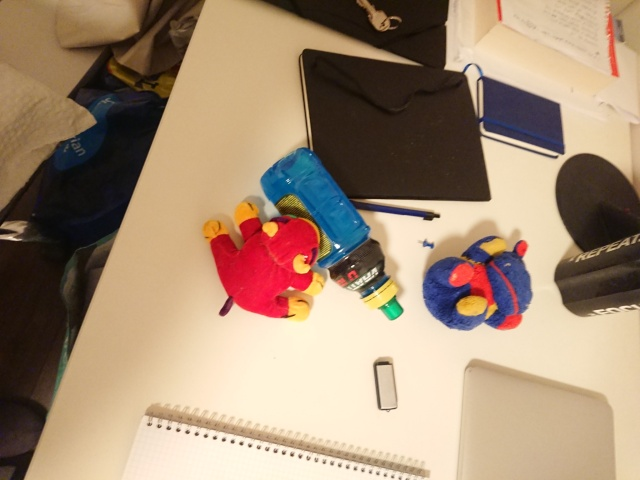Vindi Iso Sport Forest Strawberries 500mL: (258, 145, 404, 321)
